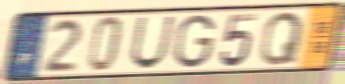0: (88, 15, 127, 74)
2: (41, 18, 85, 75)
5: (218, 12, 260, 68)
G: (172, 13, 217, 70)
Q: (257, 10, 305, 67)
U: (128, 15, 178, 71)
